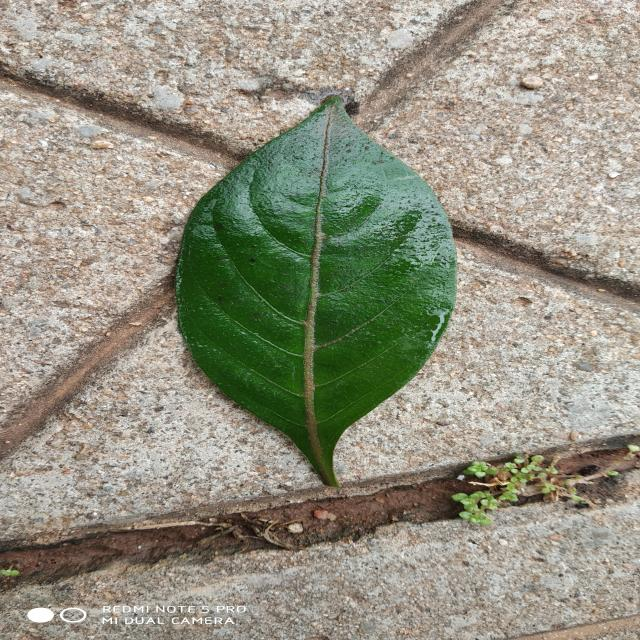ganike: (176, 96, 456, 486)
